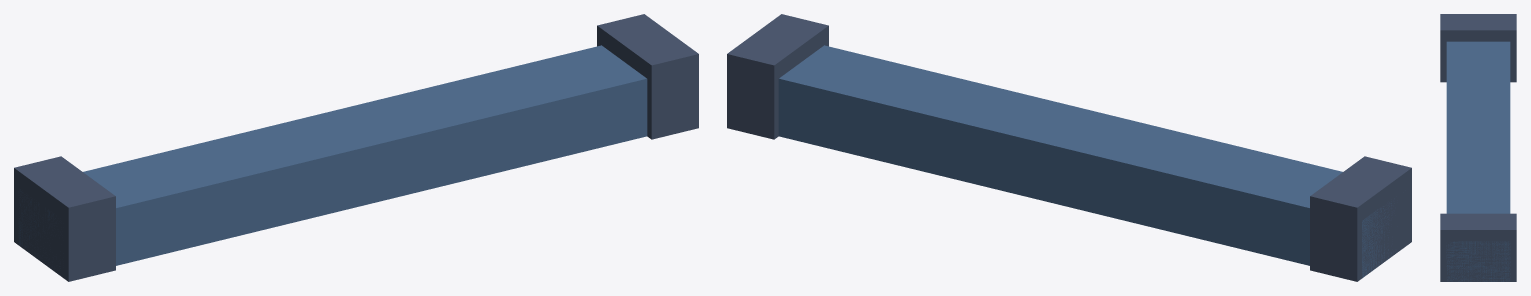
Rendered from ceiling_beam.glb.
3 views of the same model, side by side, from view 1: azimuth 30°, elevation 25°; view 2: azimuth 150°, elevation 25°; view 3: azimuth 270°, elevation 25° (orthographic). The views are drawn at different scales.
Parts seen in each view (by area): view 1: ceiling_beam_navy_frame, ceiling_beam_graphite_navy; view 2: ceiling_beam_navy_frame, ceiling_beam_graphite_navy; view 3: ceiling_beam_navy_frame, ceiling_beam_graphite_navy.
Part boxes in pixels (<box>): ceiling_beam_navy_frame: <box>18,45,647,269</box>; ceiling_beam_graphite_navy: <box>14,14,698,281</box>; ceiling_beam_navy_frame: <box>778,45,1394,278</box>; ceiling_beam_graphite_navy: <box>727,14,1411,281</box>; ceiling_beam_navy_frame: <box>1446,41,1510,281</box>; ceiling_beam_graphite_navy: <box>1440,14,1516,281</box>.
Size of the model in its own units: 4 by 0.48 by 0.6.
